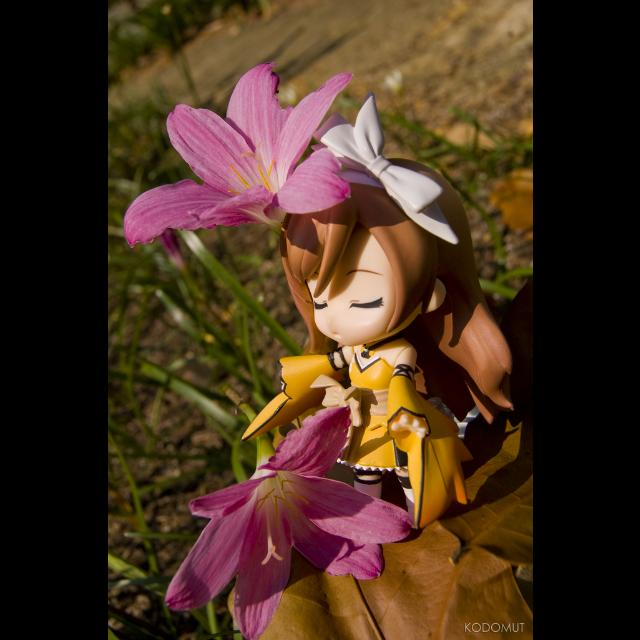Flower: (167, 407, 409, 639), (125, 65, 352, 239)
